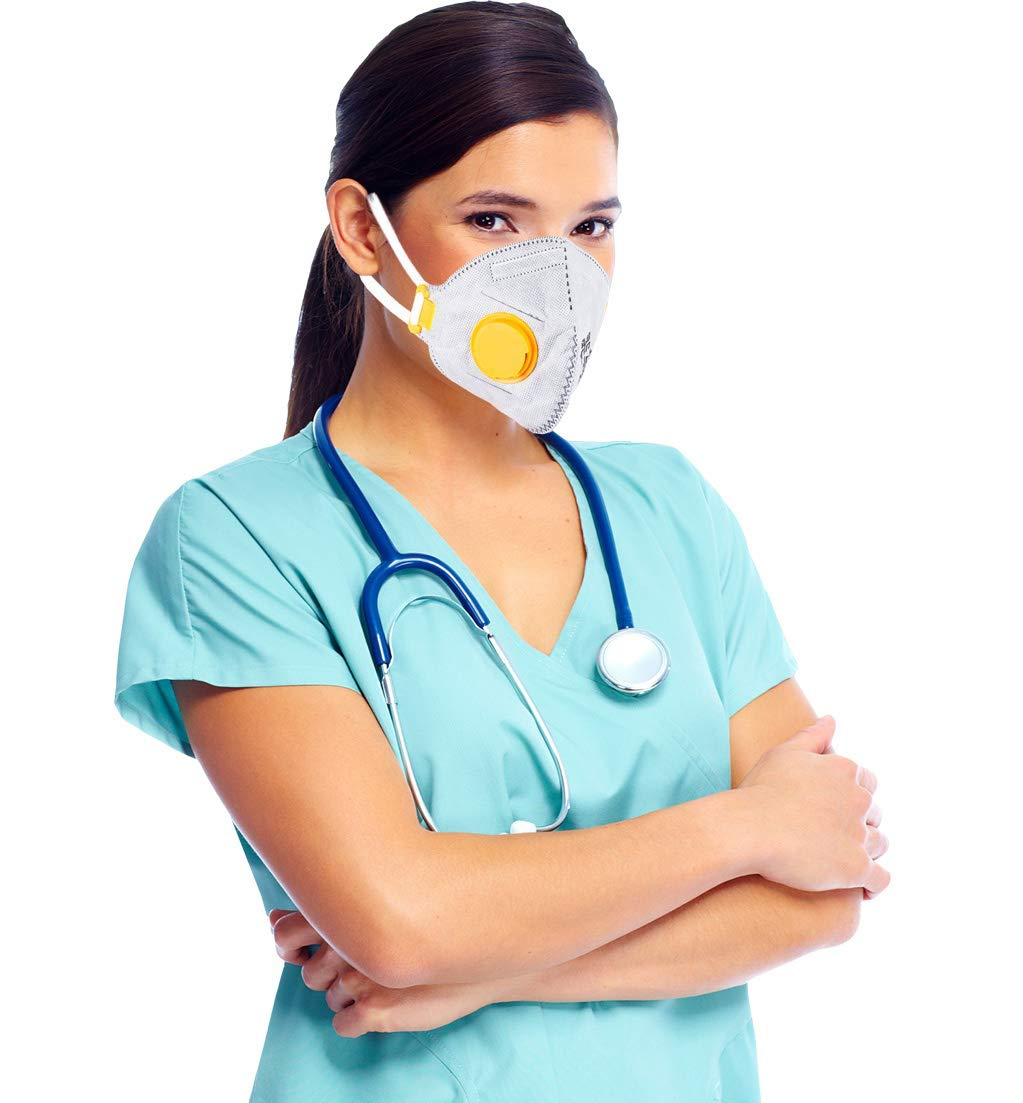n95: (392, 231, 624, 442)
